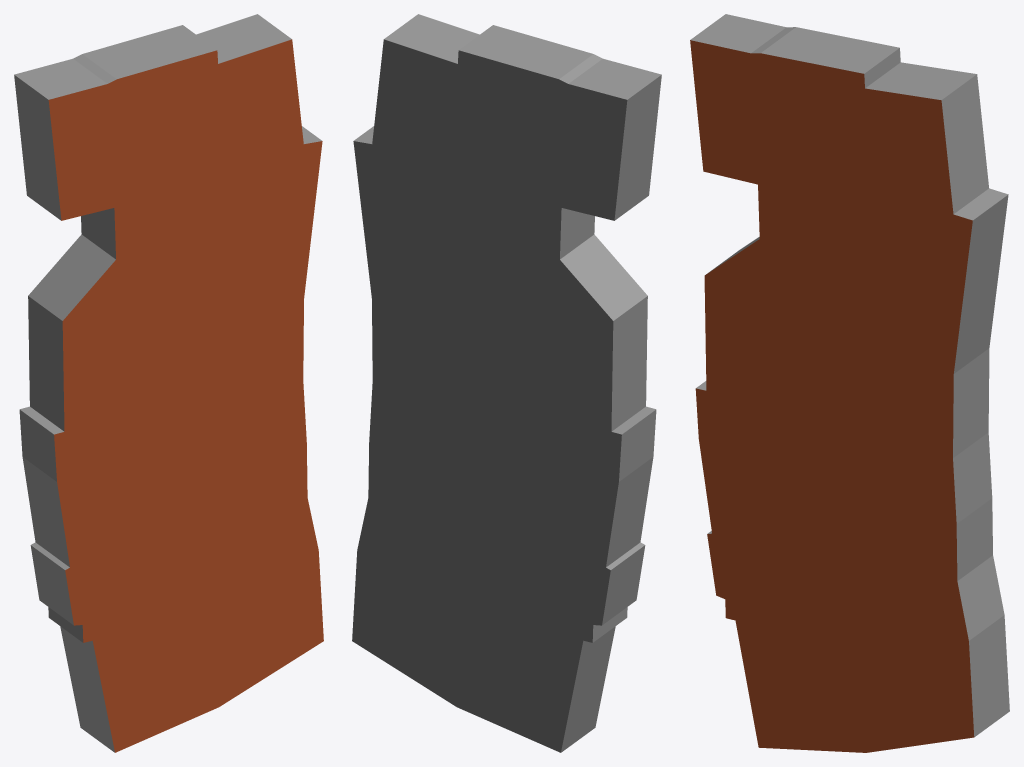
File: construction_3928_assumed_A_Casa_h6m.obj
3 views of the same model, side by side, from view 1: azimuth 30°, elevation 25°; view 2: azimuth 150°, elevation 25°; view 3: azimuth 330°, elevation 25° (orthographic). The views are drawn at different scales.
Parts seen in each view (by area): view 1: construction_3928_assumed_A_Casa; view 2: construction_3928_assumed_A_Casa; view 3: construction_3928_assumed_A_Casa.
Boxes of the visible parts, x1=… form: construction_3928_assumed_A_Casa: x1=14, y1=14, x2=323, y2=752; construction_3928_assumed_A_Casa: x1=352, y1=14, x2=661, y2=752; construction_3928_assumed_A_Casa: x1=690, y1=14, x2=1009, y2=752.
Bounding box in the file's own units: 27.59 × 64.92 × 6.
